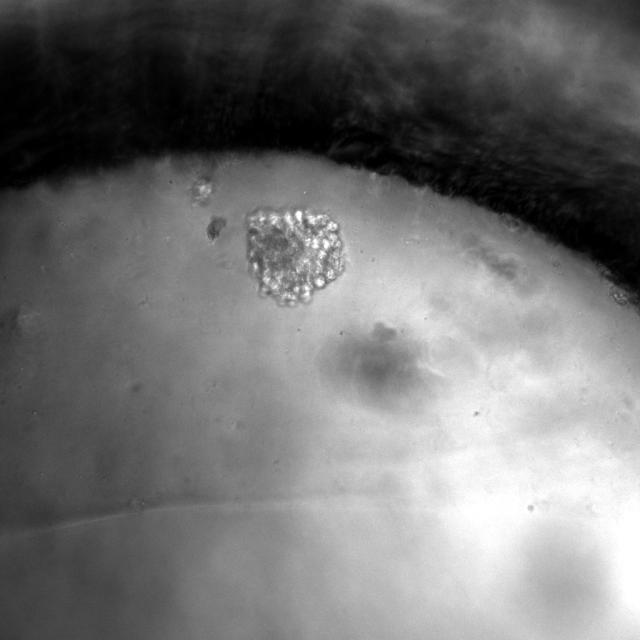organoid: (247, 209, 344, 305), (192, 180, 212, 205)
